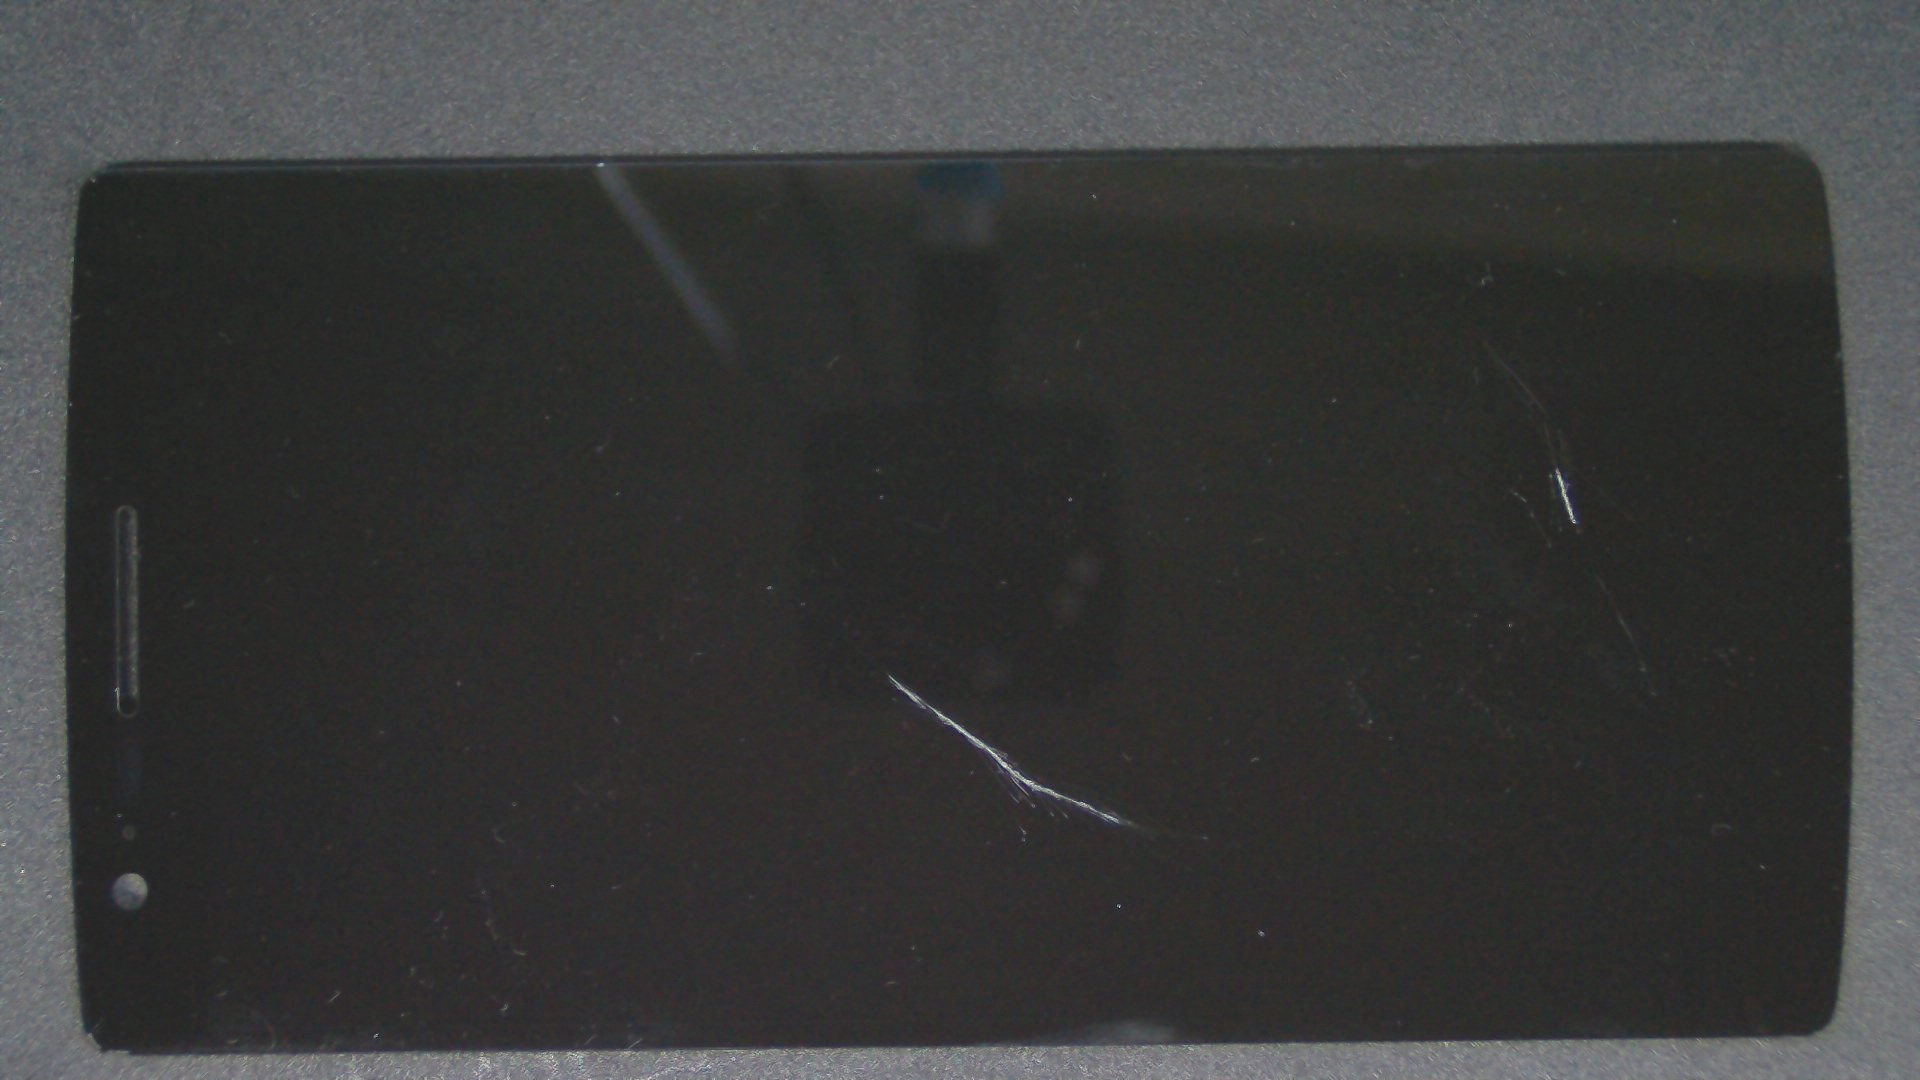oil: (444, 336, 1333, 1011), (779, 233, 1920, 702)
